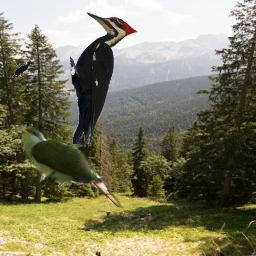Crow: (11, 60, 33, 79)
Cuckoo: (14, 125, 124, 209)
Woodpecker: (70, 11, 140, 144)
